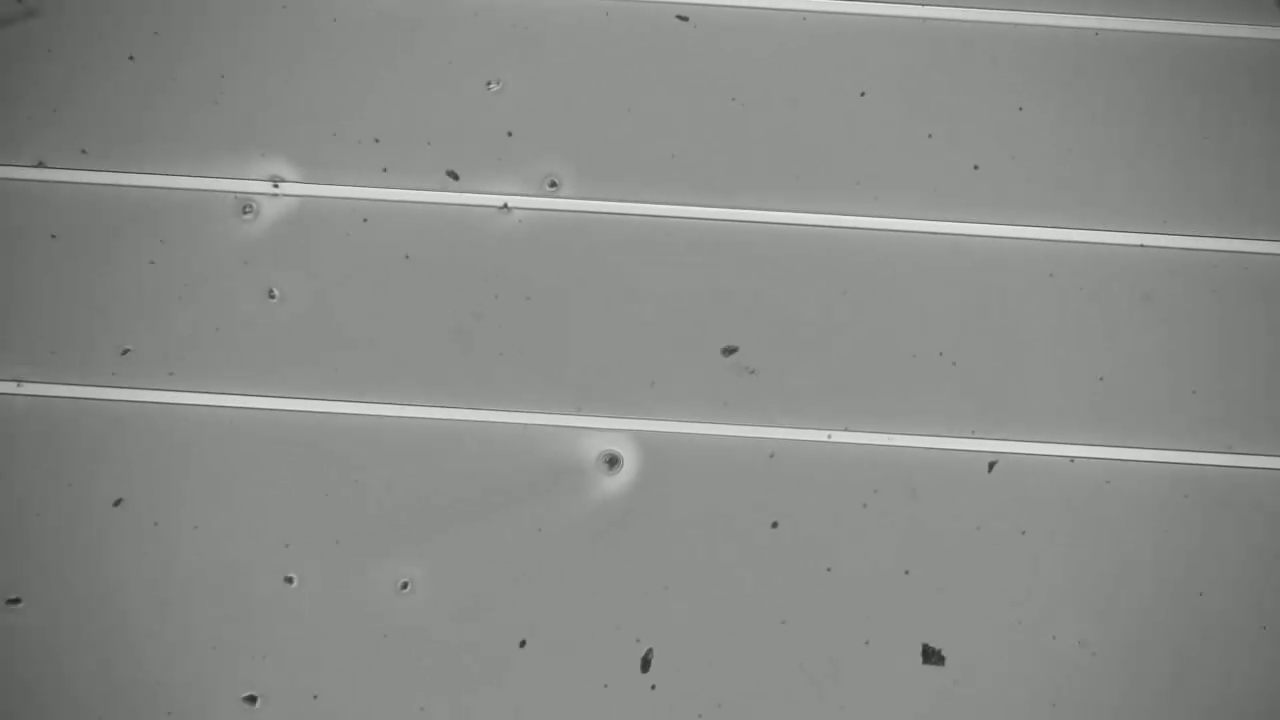stains_enbedded: (262, 169, 291, 203), (492, 190, 517, 215)
